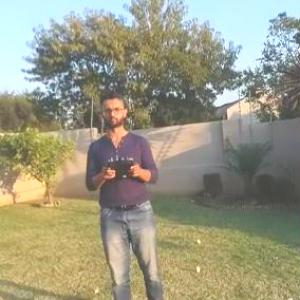follow: (77, 78, 166, 299)
